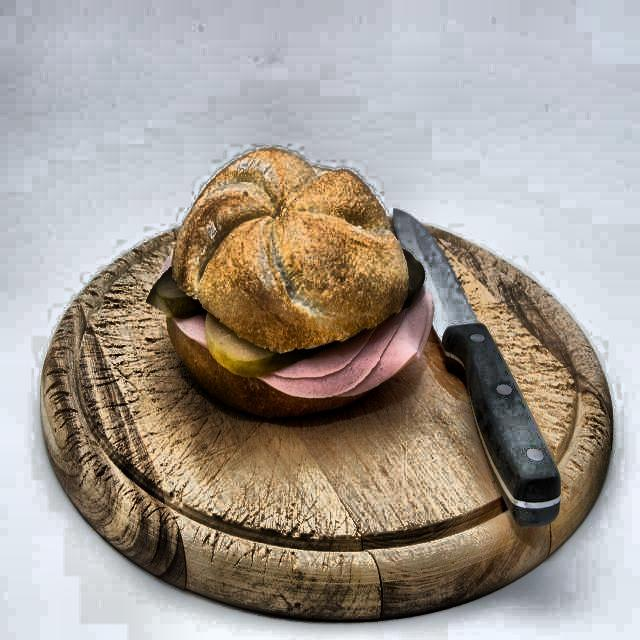knife: (390, 202, 567, 536)
